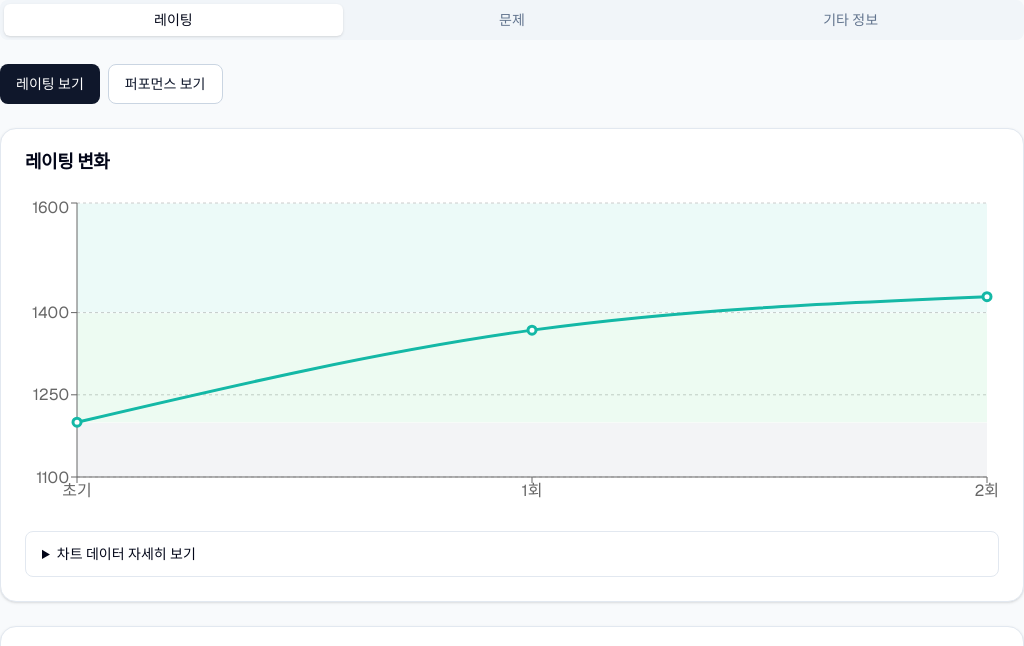
Test: UserDashboardTabs › switches among rating, problem, and other analytics
Check: the element named "유저 분석 범주" is shown, box left=0, top=0, right=1023, bottom=40
Click the tab "문제": (512, 20) left=343, top=4, right=681, bottom=36
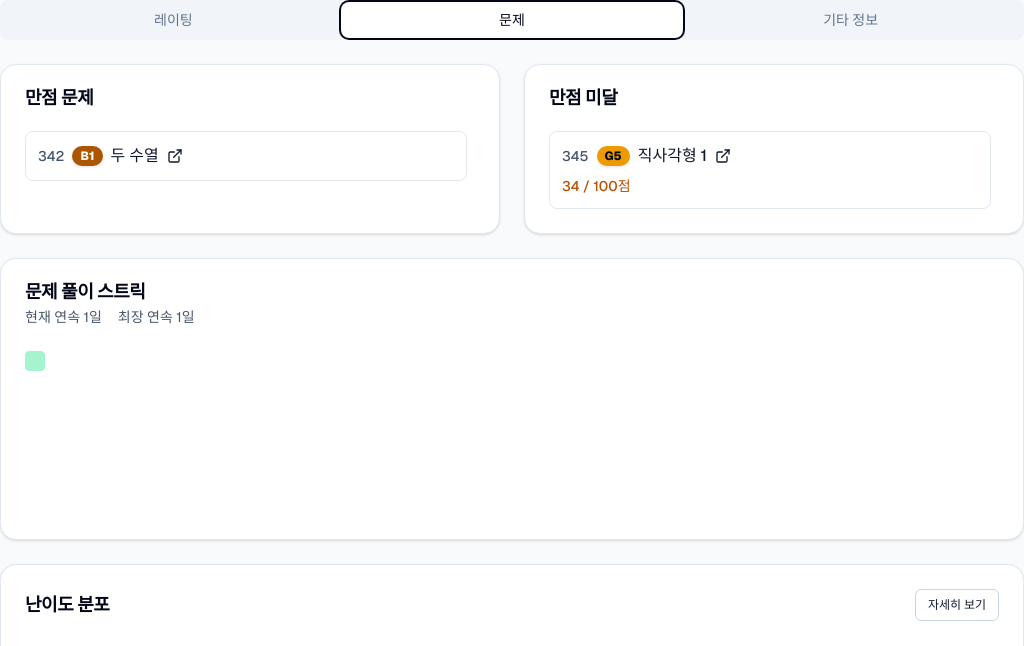
Check: the heading "만점 미달" is shown, box left=549, top=86, right=617, bottom=109
Click the tab "기타 정보": (851, 20) left=681, top=4, right=1020, bottom=36
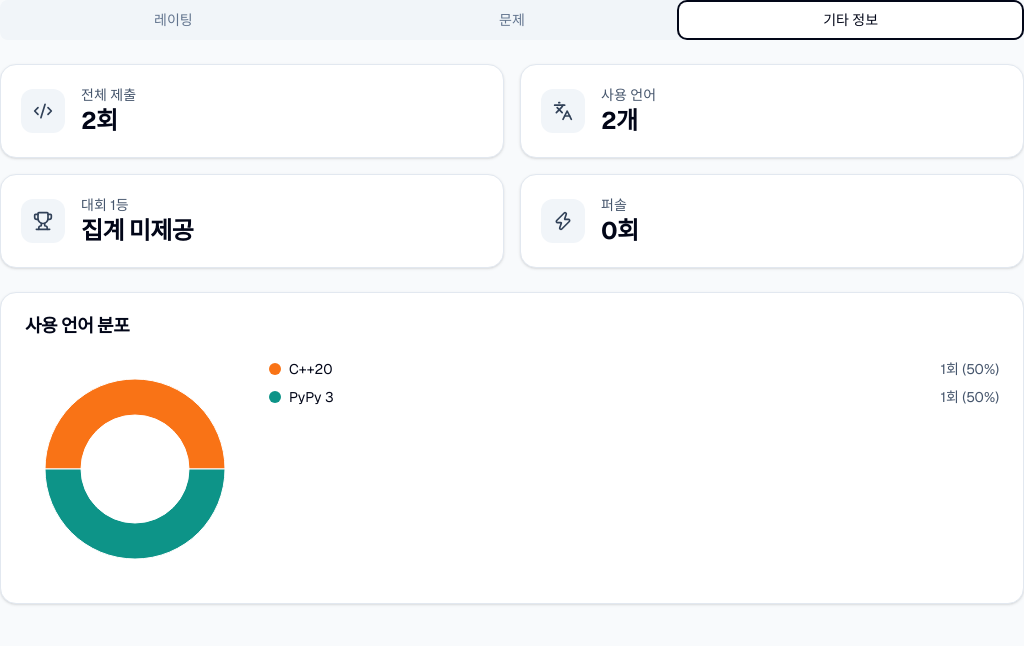
Check: the text "PyPy 3" is shown, box left=289, top=387, right=334, bottom=407
Check: the panel named "기타 정보" is shown
